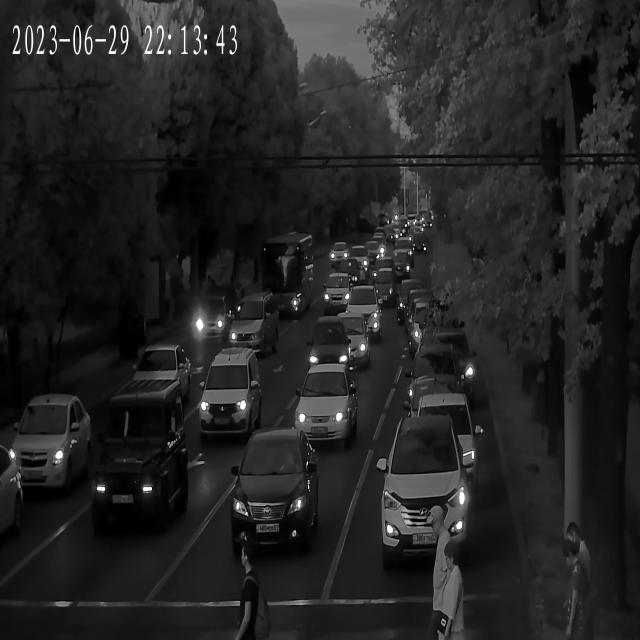Bus: (258, 236, 316, 316)
Car: (87, 379, 187, 537), (377, 413, 467, 581), (228, 434, 320, 553), (12, 390, 92, 494), (414, 390, 478, 497), (199, 347, 263, 452), (295, 366, 360, 454), (409, 338, 463, 435), (424, 326, 475, 412), (128, 344, 192, 411), (232, 295, 282, 360), (306, 322, 350, 389), (192, 291, 236, 347), (333, 315, 374, 374), (0, 440, 25, 534), (413, 307, 448, 362), (346, 290, 381, 338), (397, 280, 430, 324), (405, 291, 437, 336), (322, 277, 351, 316), (371, 270, 398, 307), (349, 243, 373, 280), (390, 248, 411, 277), (331, 244, 350, 271), (412, 230, 428, 260), (390, 217, 404, 239), (376, 224, 388, 246)
